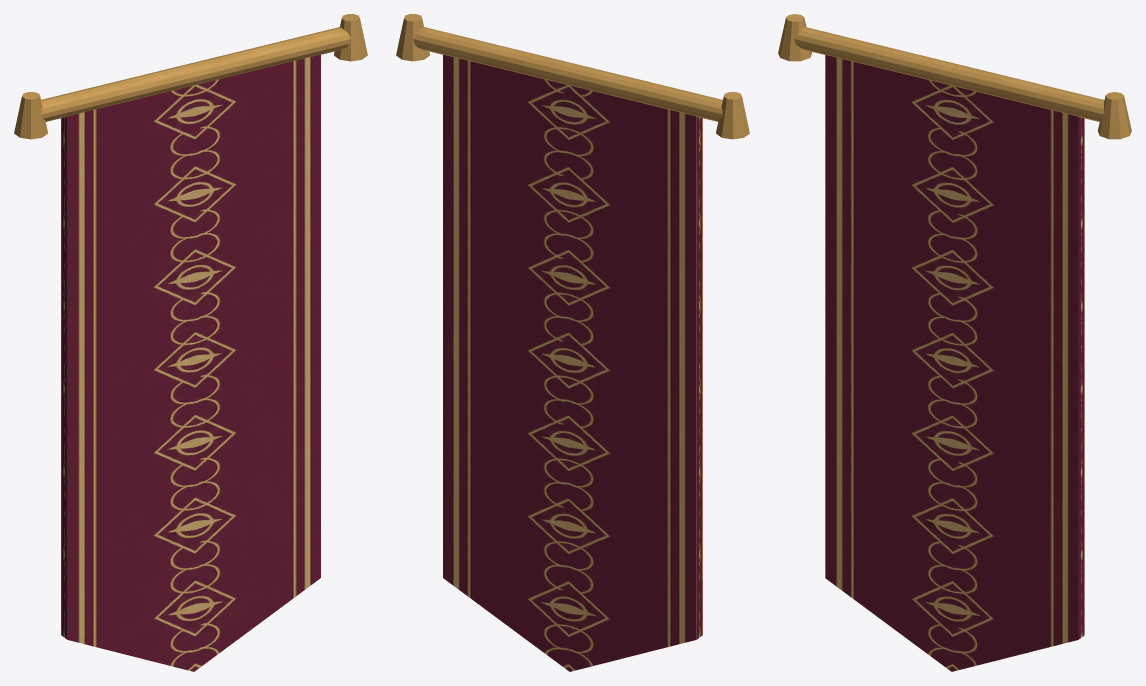
The model's file is SM_Theater_Deco_Banner.fbx.
3 views of the same model, side by side, from view 1: azimuth 30°, elevation 25°; view 2: azimuth 150°, elevation 25°; view 3: azimuth 330°, elevation 25° (orthographic).
Visible parts, largest first — view 1: SM_Theater_Deco_Banner_LOD0; view 2: SM_Theater_Deco_Banner_LOD0; view 3: SM_Theater_Deco_Banner_LOD0.
Part boxes in pixels (<box>): SM_Theater_Deco_Banner_LOD0: <box>14,14,367,671</box>; SM_Theater_Deco_Banner_LOD0: <box>396,14,749,671</box>; SM_Theater_Deco_Banner_LOD0: <box>778,14,1131,671</box>.
Size of what is drawn, in the model's own units: 2.2 by 3.7 by 0.1871.
